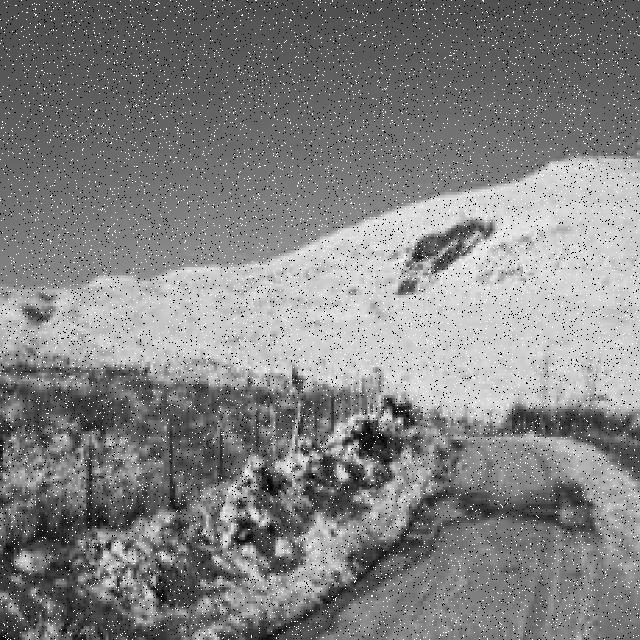ice-road: (252, 434, 640, 640)
